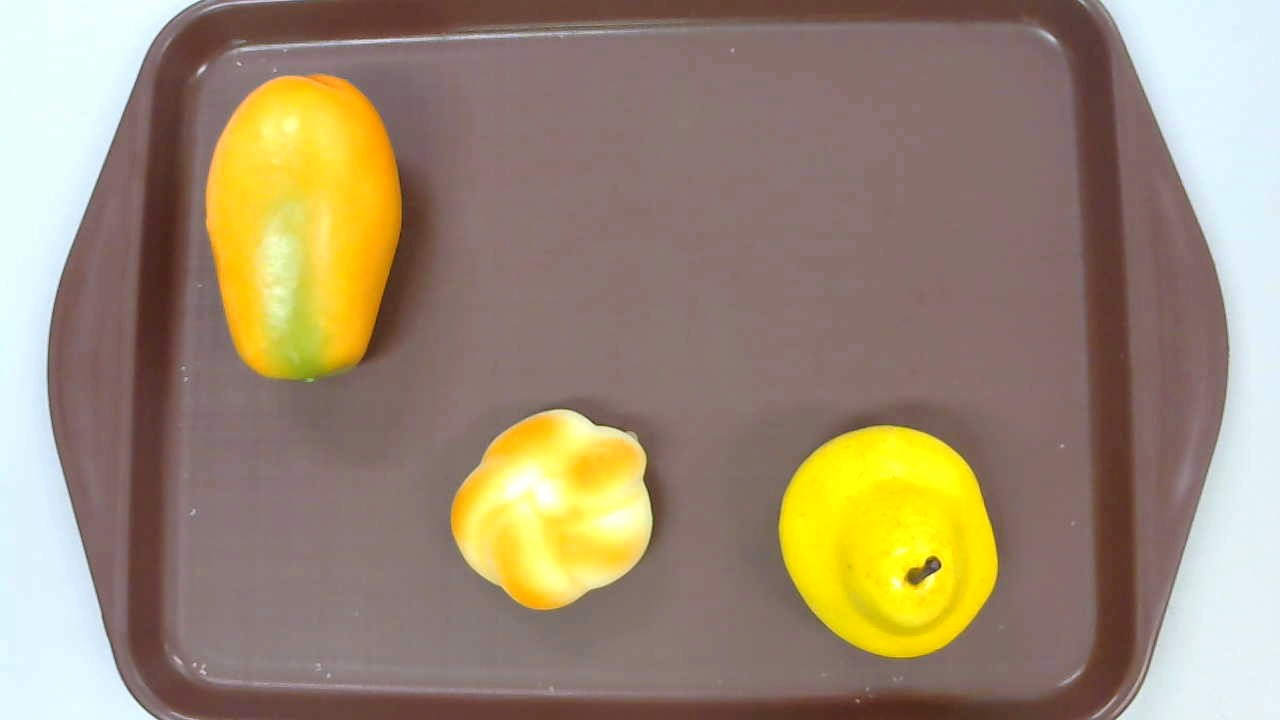papya: (204, 73, 402, 380)
twist bread: (451, 407, 656, 612)
yellow pear: (779, 425, 997, 659)
